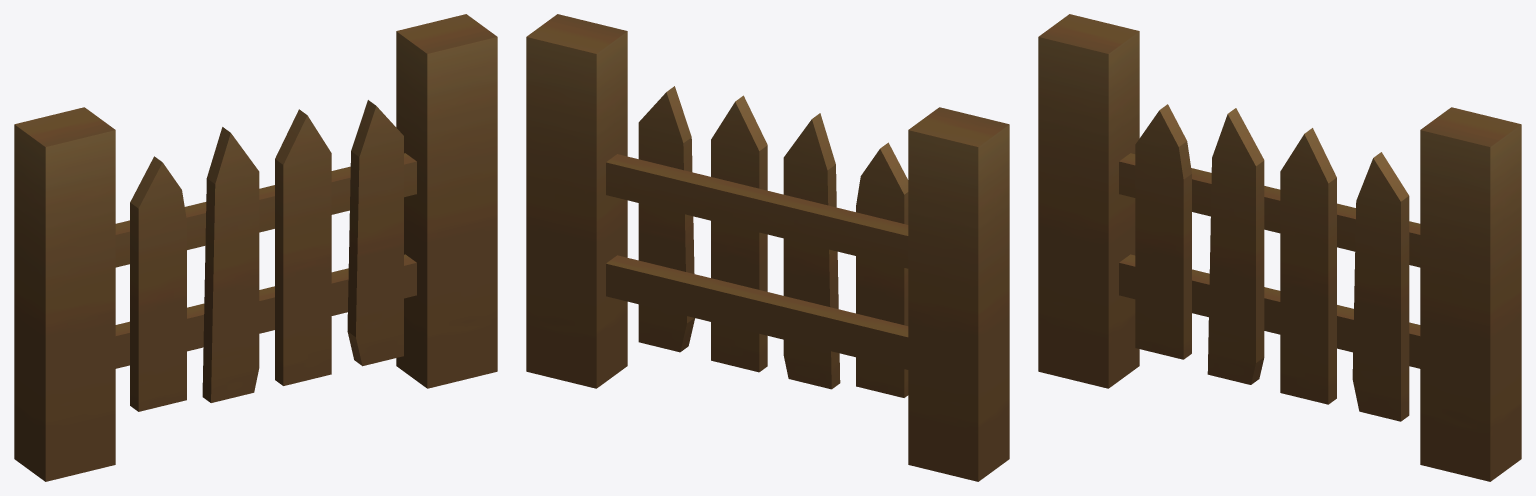
Rendered from pack04_fences_17.fbx.
3 renders of one model, left to right at view 1: azimuth 30°, elevation 25°; view 2: azimuth 150°, elevation 25°; view 3: azimuth 330°, elevation 25°, orthographic.
Visible parts, largest first — view 1: Small_Fence_04; view 2: Small_Fence_04; view 3: Small_Fence_04.
Boxes of the visible parts, x1,y1,x2,y2 form: Small_Fence_04: (14, 14, 497, 481); Small_Fence_04: (526, 14, 1009, 481); Small_Fence_04: (1038, 14, 1521, 481).
Bounding box in the file's own units: 38.4 × 27.18 × 4.6.
Materials: 1 (1 with a texture image).
